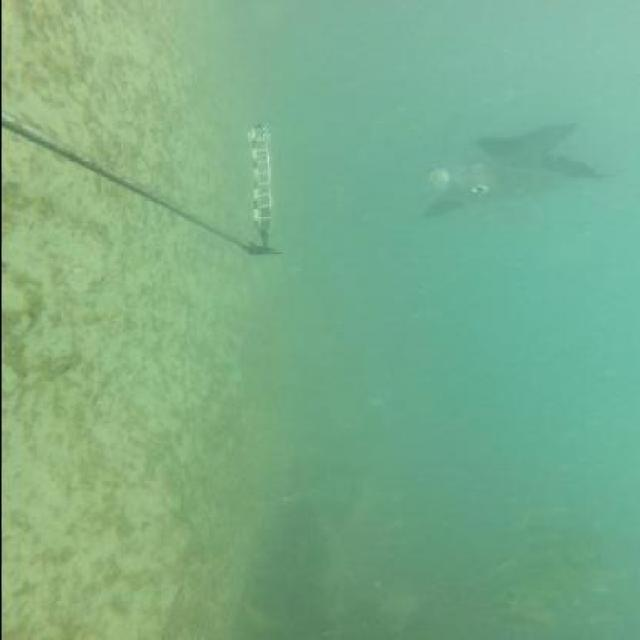acanthopagrus_palmaris: (412, 121, 606, 224)
